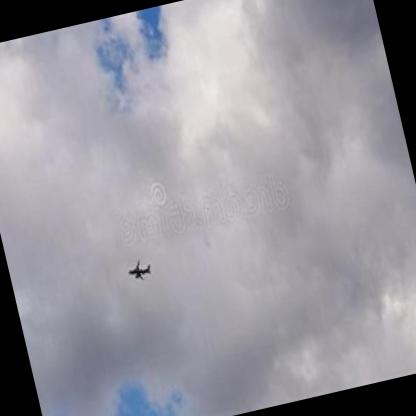plane: (121, 249, 158, 291)
